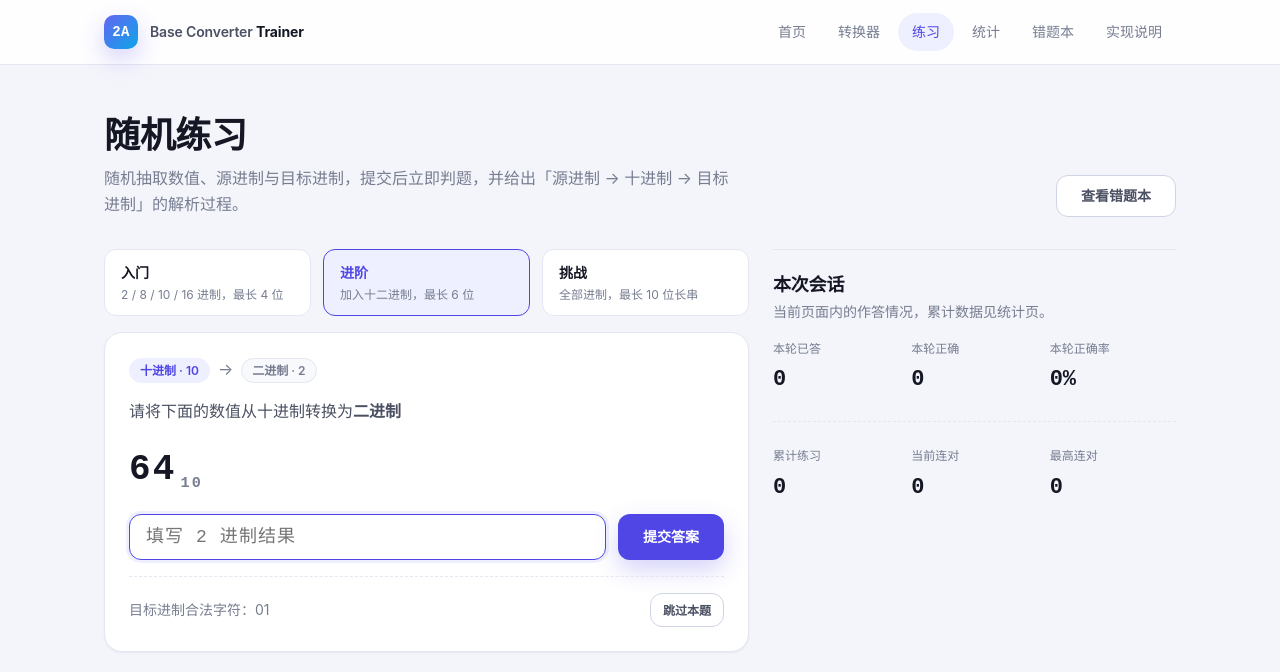
Test: 统计页 · 与练习联动 › 在练习页答错后，正确率为 0 且错题出现在最近错题里
Step 1. Type "0" into the field named "答案输入框" → x=367, y=537, box [129,514,606,560]
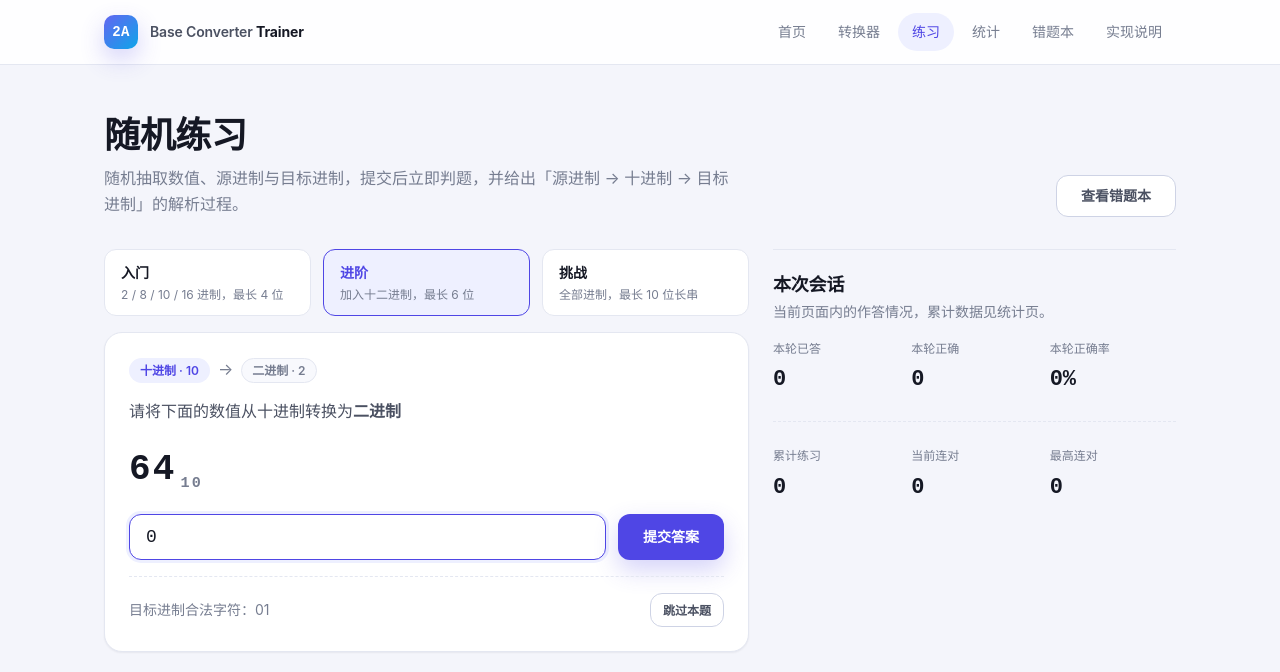
Step 2. Click the button "提交答案" → x=671, y=537, box [618,514,724,560]
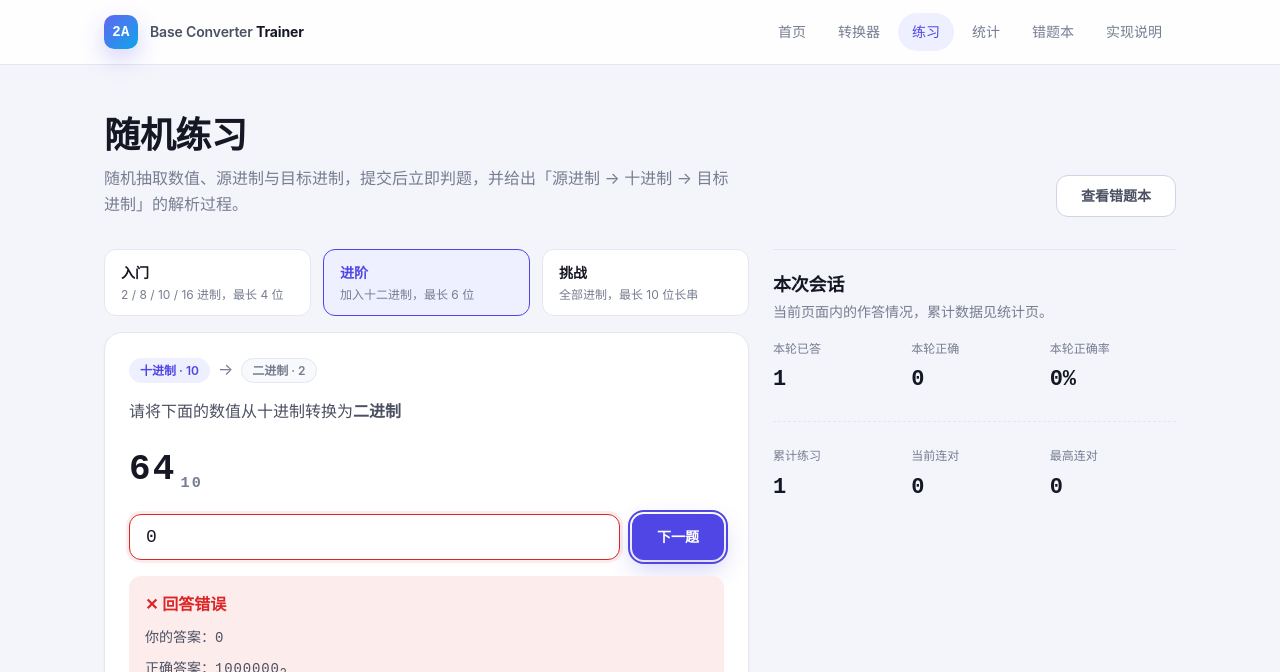
Expected: the text "✕ 回答错误" is shown, [145,594,226,614]
Step 3. Click the link "统计" → x=986, y=31, box [972,23,1000,40]
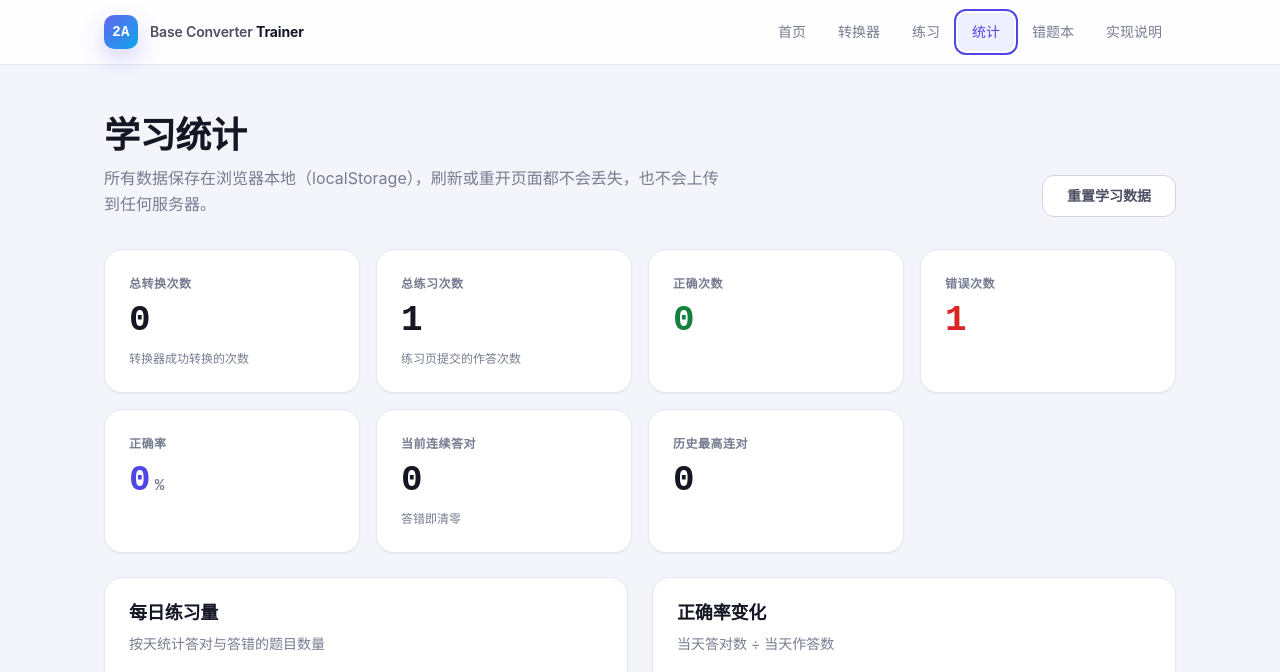
Expected: the text with class "stat-tile__value" below "错误次数" reads "1", [945,300,969,341]
Expected: the heading "学习统计" is shown, [104,113,247,157]
Expected: the element with class "stat-tile__label" is shown, [920,249,1176,393]
